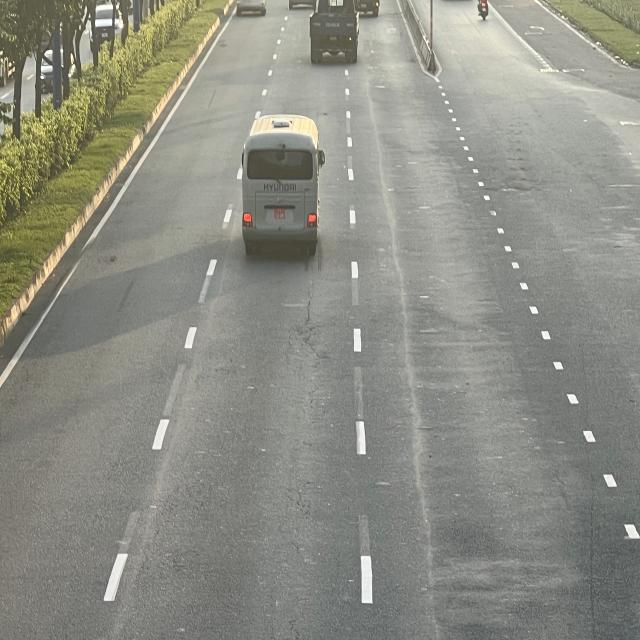coach: (240, 114, 326, 253)
truck: (311, 0, 361, 61)
